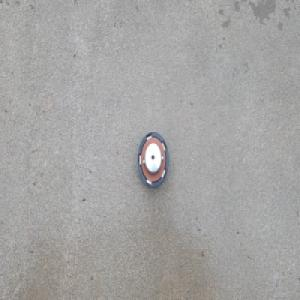FuelCap: (136, 129, 169, 189)
